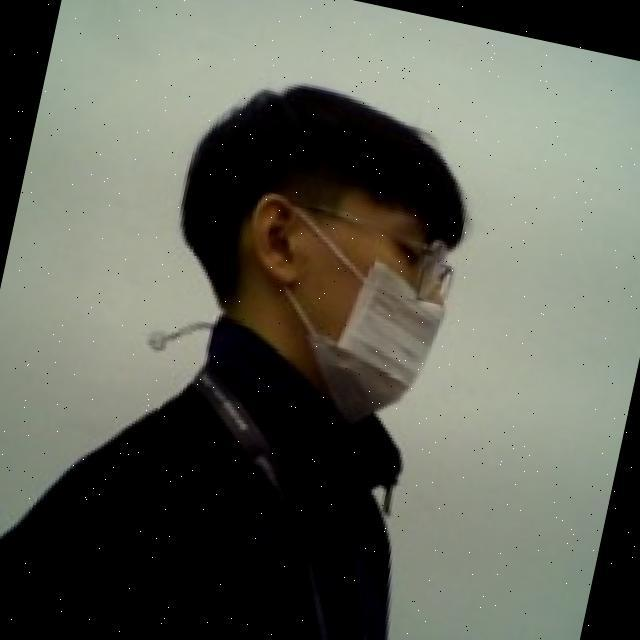mask: (212, 190, 469, 448)
no_gloves: (160, 43, 506, 298)
